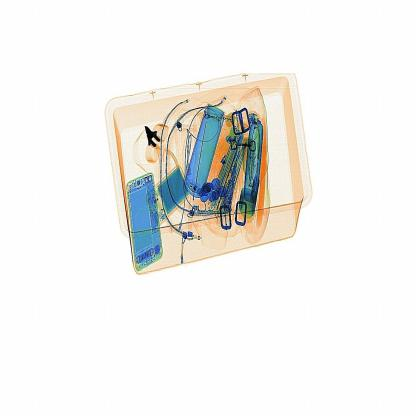gun: (138, 112, 174, 177)
